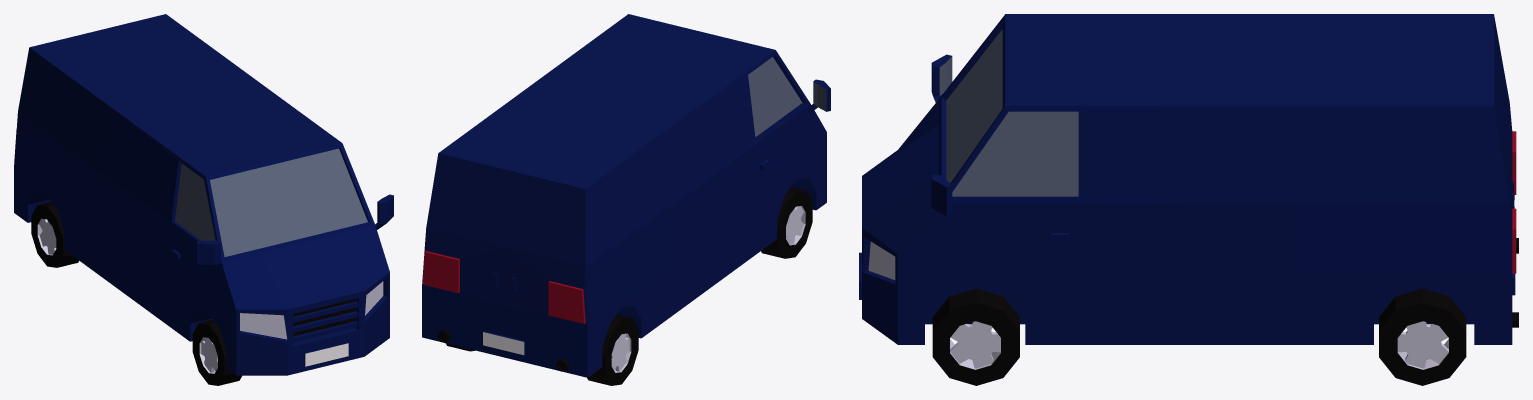
File: van.glb
3 views of the same model, side by side, from view 1: azimuth 30°, elevation 25°; view 2: azimuth 150°, elevation 25°; view 3: azimuth 270°, elevation 25° (orthographic). The views are drawn at different scales.
Visible parts, largest first — view 1: Van, Van wheel front right, Van wheel rear right; view 2: Van, Van wheel rear right, Van wheel front right; view 3: Van, Van wheel front left, Van wheel rear left.
Boxes of the visible parts, bbox=[...] form: Van: bbox=[14, 14, 393, 375]; Van wheel front right: bbox=[192, 319, 241, 385]; Van wheel rear right: bbox=[31, 201, 78, 267]; Van: bbox=[422, 14, 830, 377]; Van wheel rear right: bbox=[587, 314, 638, 385]; Van wheel front right: bbox=[761, 187, 812, 258]; Van: bbox=[859, 14, 1518, 344]; Van wheel front left: bbox=[932, 288, 1019, 385]; Van wheel rear left: bbox=[1379, 288, 1466, 385].
Bounding box in the file's own units: 2.81 × 2.71 × 5.91.
